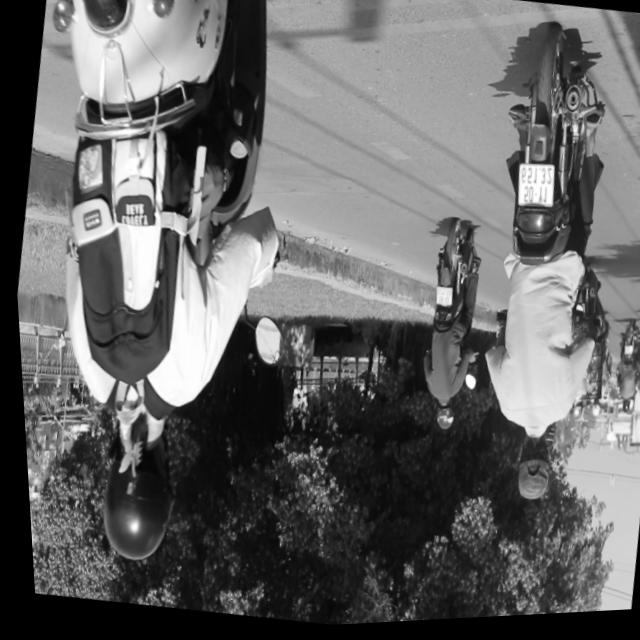helmet: (83, 416, 185, 571), (426, 405, 451, 438)
licenseplate: (0, 0, 337, 586), (436, 24, 640, 522), (399, 223, 492, 441)
motorcyclist: (501, 432, 554, 510)
nohelmet: (510, 166, 556, 217), (430, 291, 450, 312)
